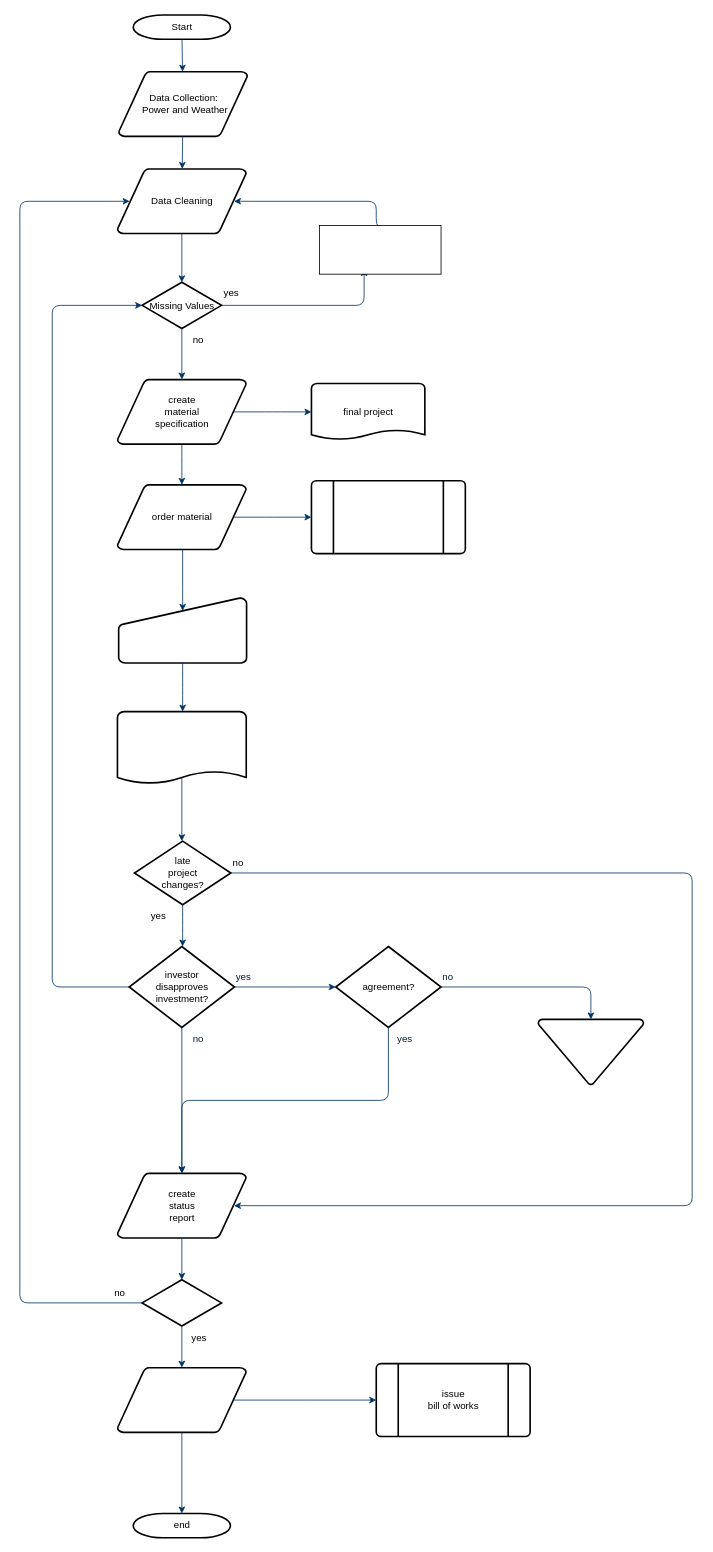
The diagram is 713 pixels wide and 1552 high, and some of its shapes have lost their labels. Here are the shapes that lost their labels. From the top down, the box of each, then its label:
(319, 225, 441, 274): Ignore the tuple Filling Missing Values
(310, 480, 466, 554): material balance
(117, 597, 247, 663): organize workforce
(116, 710, 247, 785): create Gantt diagram
(537, 1018, 644, 1085): terminate contract
(141, 1279, 222, 1326): project complete?
(116, 1366, 247, 1433): create final report
